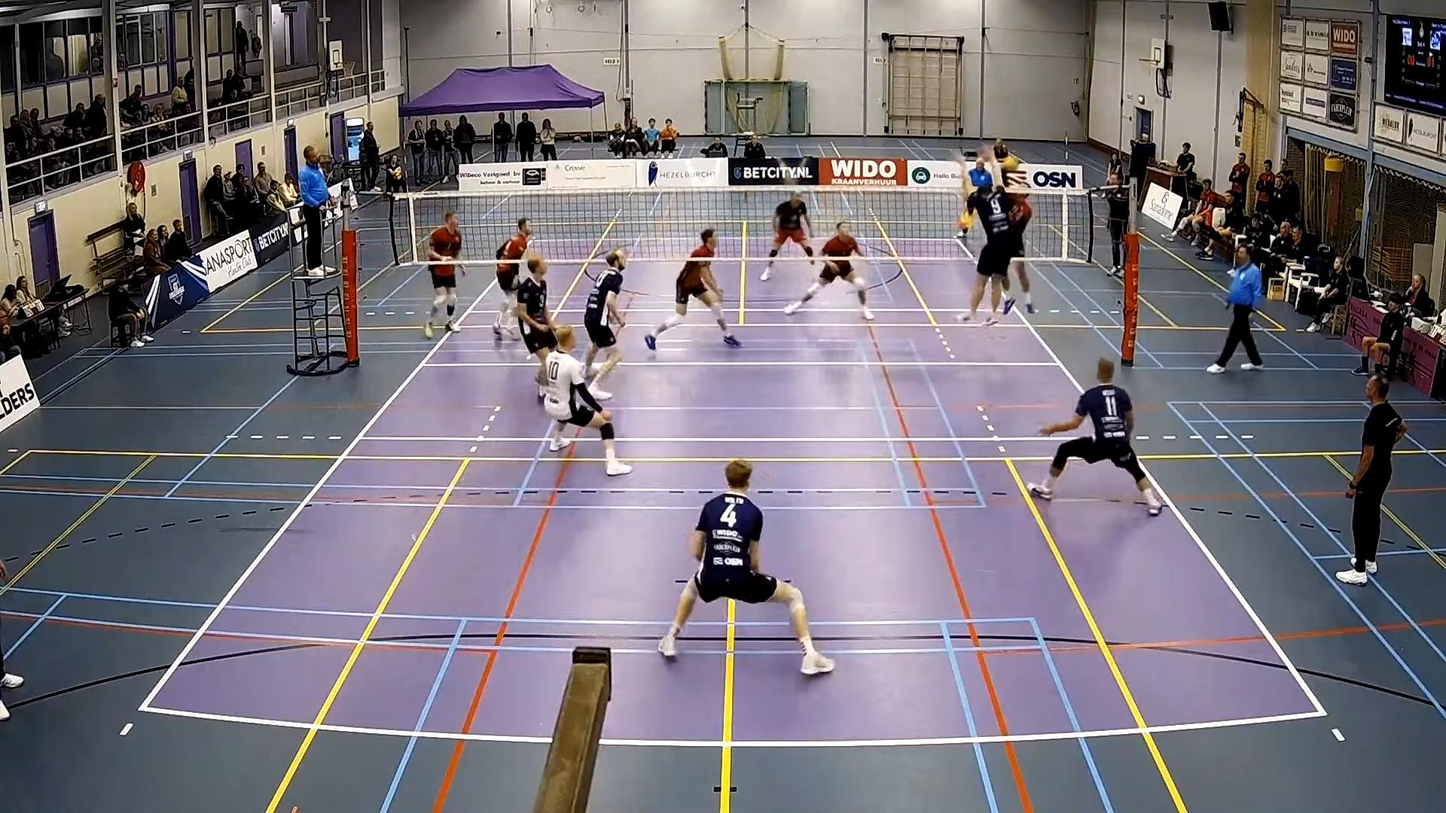attacco: (1000, 176, 1039, 317)
muro: (951, 148, 1018, 329)
